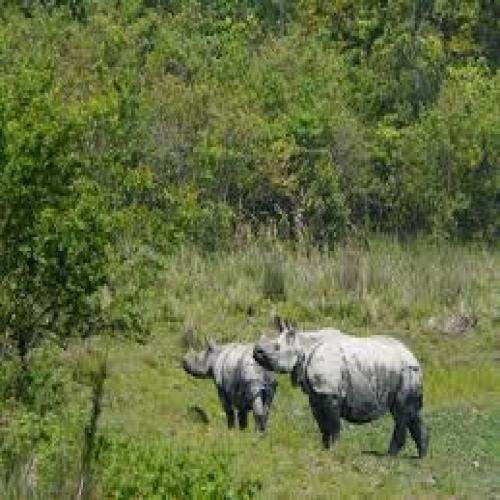rhino-endangered: (253, 315, 432, 460), (178, 337, 276, 429)
